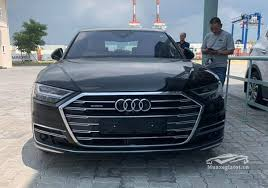audi: (110, 97, 153, 112)
